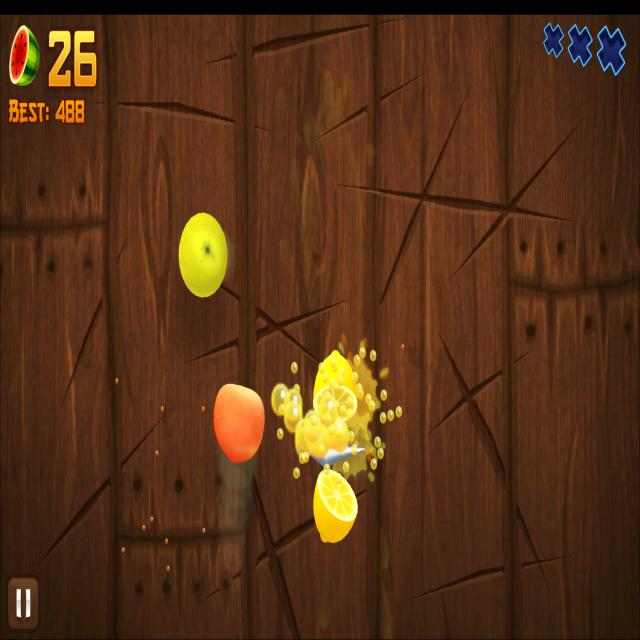fruit: (178, 213, 228, 298), (213, 384, 265, 464)
